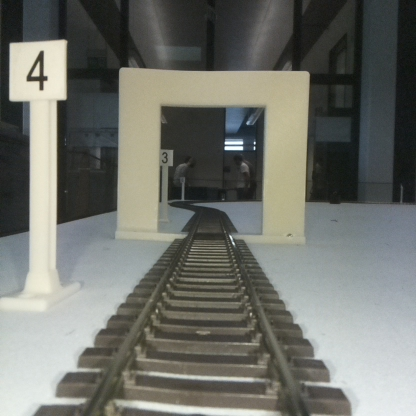white-info-3: (159, 149, 173, 219)
white-info-4: (9, 40, 65, 307)
